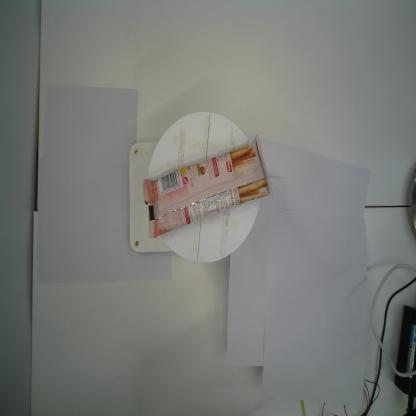Dessert: (143, 134, 274, 240)
